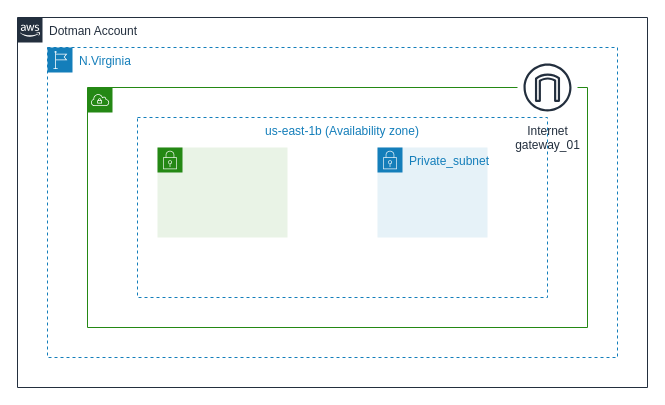
Image size: 665x405. Some labels were removed from this diagram. The box of each missing label's shape, as (x1, y1, x2, y2) in pixels:
Public_subnet_01: (156, 146, 288, 238)
Vpc_01: (86, 86, 588, 328)
